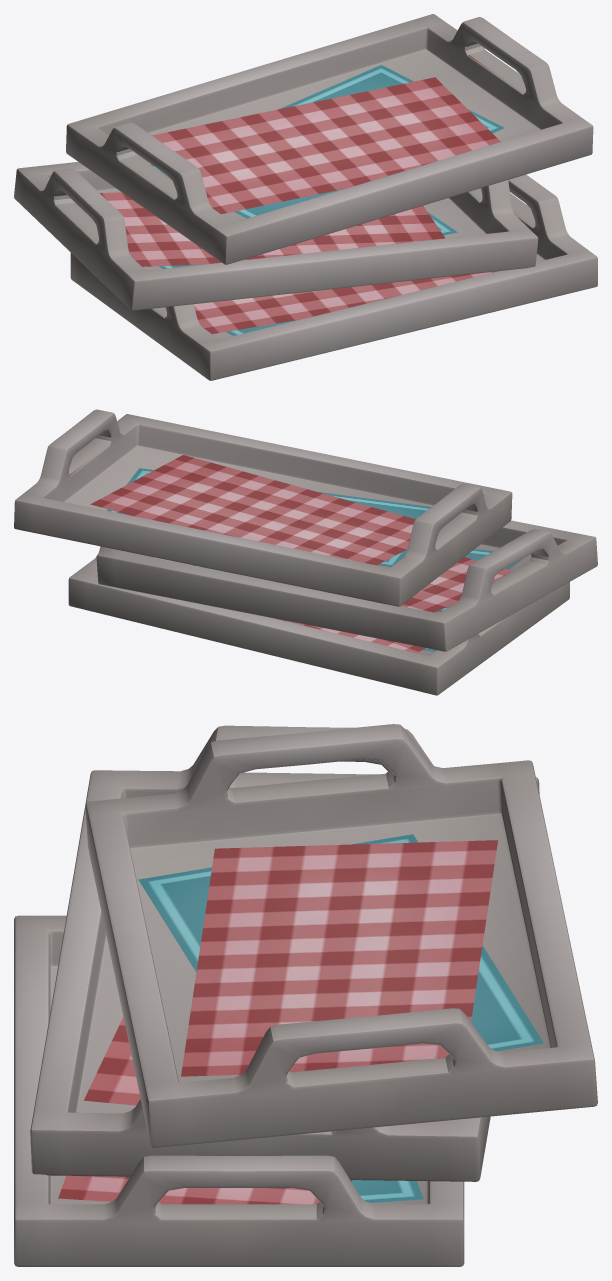
File: TrashBoxTray.fbx
3 views of the same model, one above another, from view 1: azimuth 30°, elevation 25°; view 2: azimuth 150°, elevation 25°; view 3: azimuth 270°, elevation 25° (orthographic). The views are drawn at different scales.
Visible parts, largest first — view 1: TrashBoxTray_01; view 2: TrashBoxTray_01; view 3: TrashBoxTray_01.
Boxes of the visible parts, box(x1,y1,x2,y2) form: TrashBoxTray_01: box(14, 14, 597, 380); TrashBoxTray_01: box(14, 409, 597, 695); TrashBoxTray_01: box(14, 724, 597, 1266).
Size of the model in its own units: 79.89 by 26.1 by 52.48.
